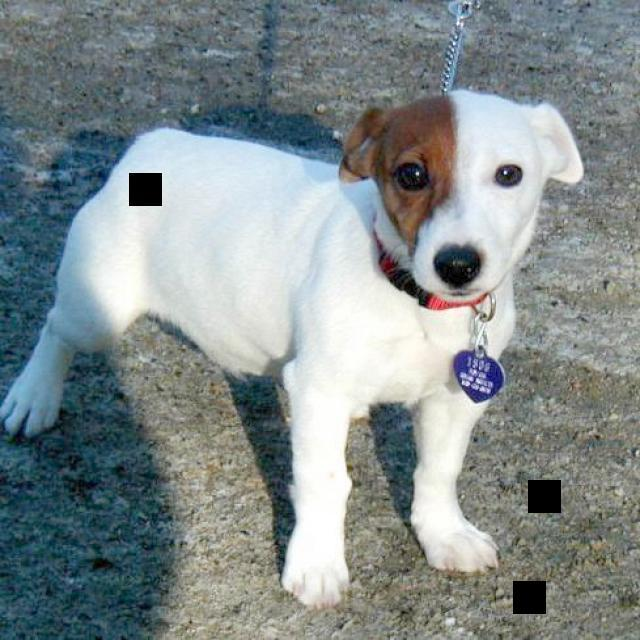puppy-dog: (1, 85, 587, 614)
